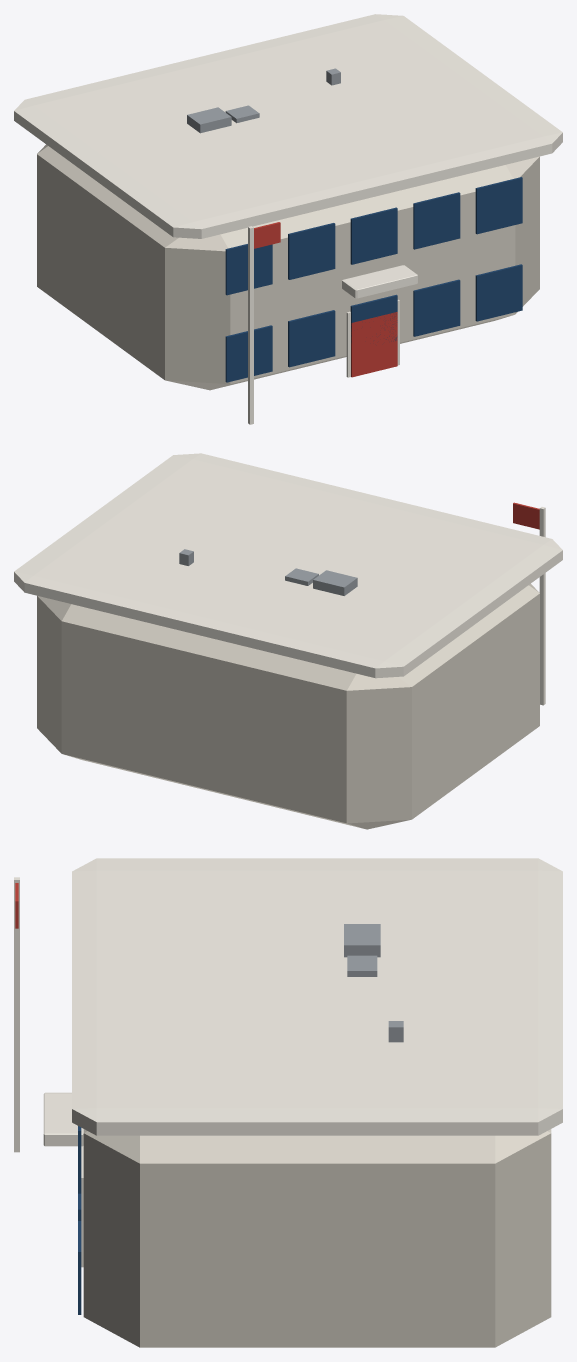
File: school_s.glb
3 renders of one model, top to bottom at view 1: azimuth 30°, elevation 25°; view 2: azimuth 150°, elevation 25°; view 3: azimuth 270°, elevation 25°, orthographic. The views are drawn at different scales.
Parts seen in each view (by area): view 1: cornice, walls, door, win.003, win.004, win.009, win.007, win.008, win.001, win.006, win, win.005 (+6 smaller); view 2: walls, cornice, flagpole, hvac, flag; view 3: cornice, walls, entry, flagpole, hvac, hvac2.
Boxes of the visible parts, x1=… form: cornice: x1=14, y1=14, x2=562, y2=238; walls: x1=37, y1=144, x2=539, y2=390; door: x1=351, y1=312, x2=397, y2=377; win.003: x1=413, y1=279, x2=460, y2=336; win.004: x1=475, y1=264, x2=522, y2=321; win.009: x1=475, y1=177, x2=522, y2=234; win.007: x1=350, y1=207, x2=397, y2=264; win.008: x1=413, y1=192, x2=460, y2=249; win.001: x1=288, y1=310, x2=335, y2=367; win.006: x1=288, y1=223, x2=335, y2=279; win: x1=225, y1=325, x2=272, y2=382; win.005: x1=225, y1=244, x2=272, y2=295; walls: x1=37, y1=583, x2=539, y2=829; cornice: x1=14, y1=453, x2=562, y2=678; flagpole: x1=539, y1=507, x2=545, y2=705; hvac: x1=313, y1=570, x2=357, y2=595; flag: x1=513, y1=502, x2=539, y2=529; cornice: x1=72, y1=858, x2=562, y2=1135; walls: x1=83, y1=1129, x2=551, y2=1347; entry: x1=43, y1=1092, x2=83, y2=1146; flagpole: x1=14, y1=877, x2=19, y2=1152; hvac: x1=344, y1=924, x2=380, y2=957; hvac2: x1=347, y1=955, x2=377, y2=976.
Bounding box in the file's own units: 18.7 × 9.1 × 16.44.
